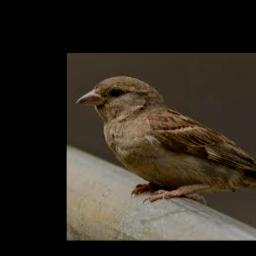Sparrow: (76, 75, 256, 203)
